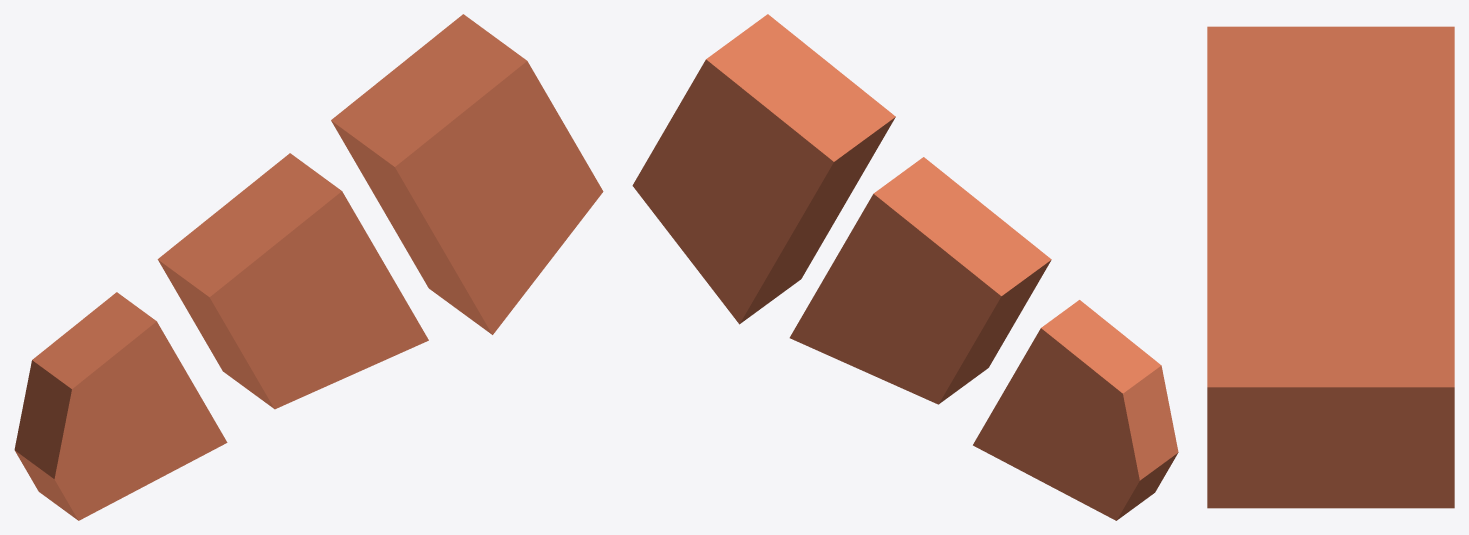
File: buildings_v1.obj
The picture shows the model from 3 angles, left to right: view 1: azimuth 30°, elevation 25°; view 2: azimuth 150°, elevation 25°; view 3: azimuth 270°, elevation 25°; orthographic projection. The views are drawn at different scales.
Parts seen in each view (by area): view 1: mesh; view 2: mesh; view 3: mesh.
Part boxes in pixels (x1,y1,x2,y2): mesh: (14,14,603,520); mesh: (632,14,1178,520); mesh: (1207,26,1454,508).
Size of the model in its own units: 227 by 155 by 48.
